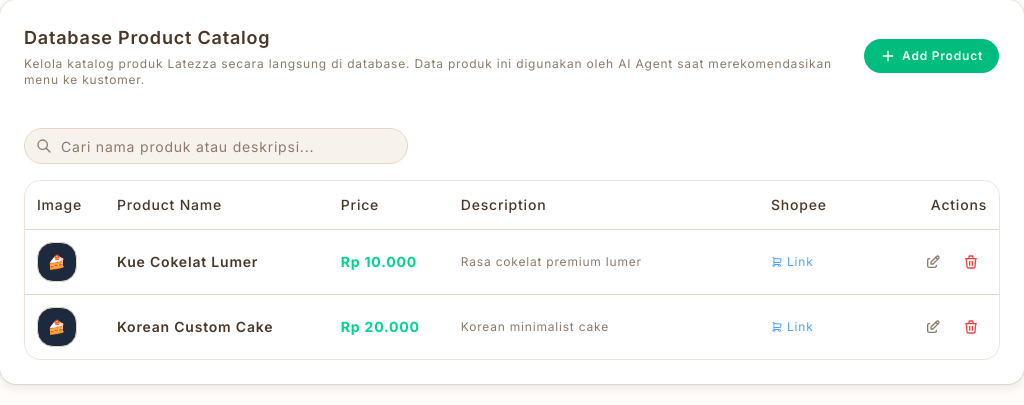
Scenario: Products component › filters products based on search input query
Type "Korean" into the field with placeholder "Cari nama produk atau deskripsi..." at (216, 146), box 24,128 -> 408,164
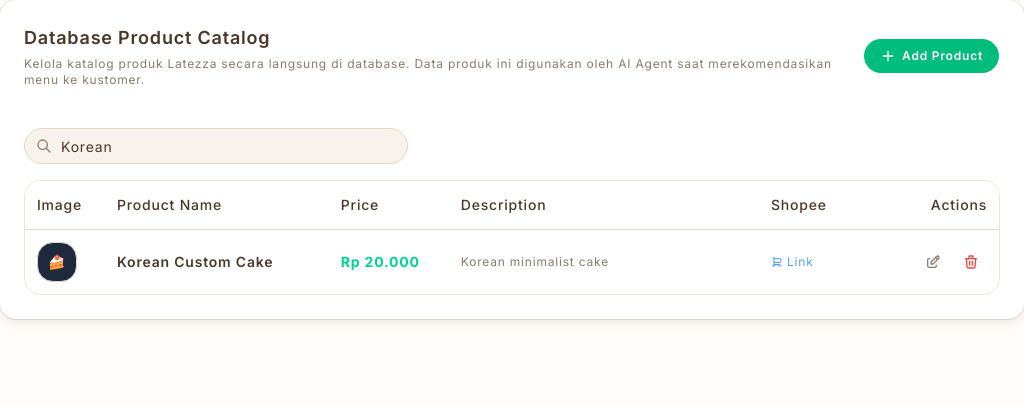
Expected: the text "Korean Custom Cake" is shown, 105,229 -> 329,294
Expected: the text "Kue Cokelat Lumer" is gone
